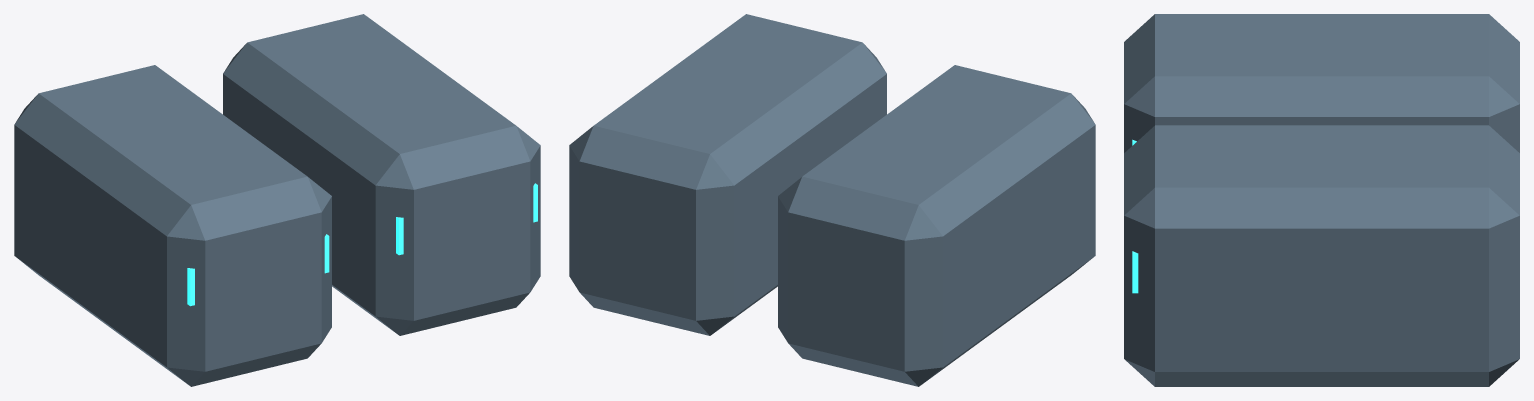
The model's file is SM_NPC_Feet_003_Robot.glb.
3 renders of one model, left to right at view 1: azimuth 30°, elevation 25°; view 2: azimuth 150°, elevation 25°; view 3: azimuth 270°, elevation 25°, orthographic. The views are drawn at different scales.
Parts seen in each view (by area): view 1: SM_NPC_Feet_003_Robot; view 2: SM_NPC_Feet_003_Robot; view 3: SM_NPC_Feet_003_Robot.
Part boxes in pixels (<box>): SM_NPC_Feet_003_Robot: <box>14,14,540,386</box>; SM_NPC_Feet_003_Robot: <box>569,14,1095,386</box>; SM_NPC_Feet_003_Robot: <box>1124,14,1519,386</box>.
Bounding box in the file's own units: 0.43 × 0.2 × 0.36.
